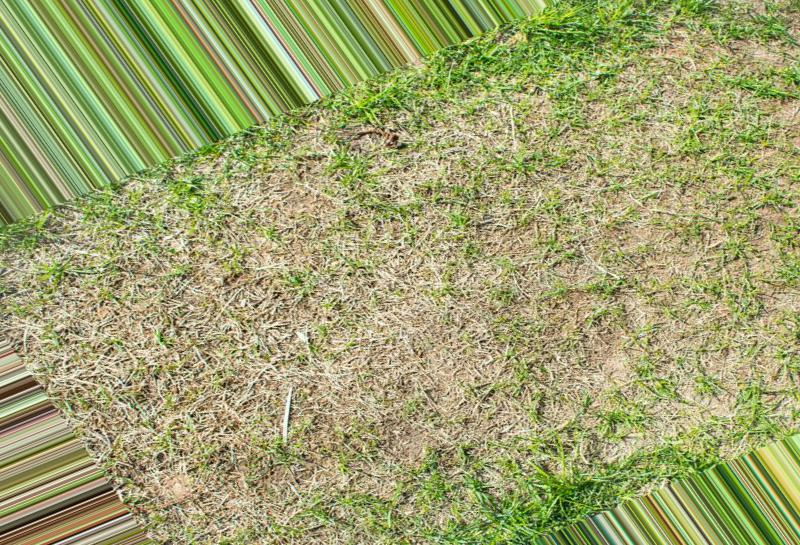patch: (77, 217, 694, 433), (318, 121, 768, 208), (173, 442, 517, 516)
